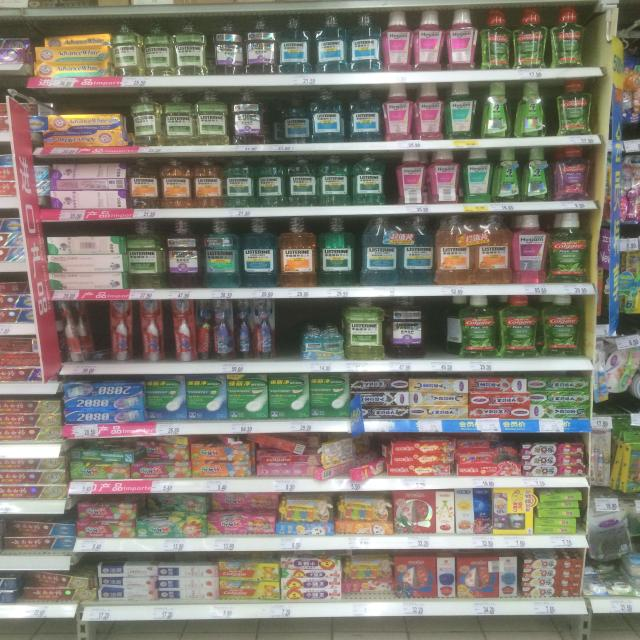unorganised: (311, 434, 372, 482), (238, 431, 308, 456), (207, 493, 280, 512), (5, 519, 78, 538), (285, 97, 313, 143), (445, 295, 468, 351), (147, 493, 205, 514), (40, 30, 112, 43), (352, 459, 388, 483), (136, 436, 197, 445), (90, 345, 112, 362), (216, 434, 241, 445)
